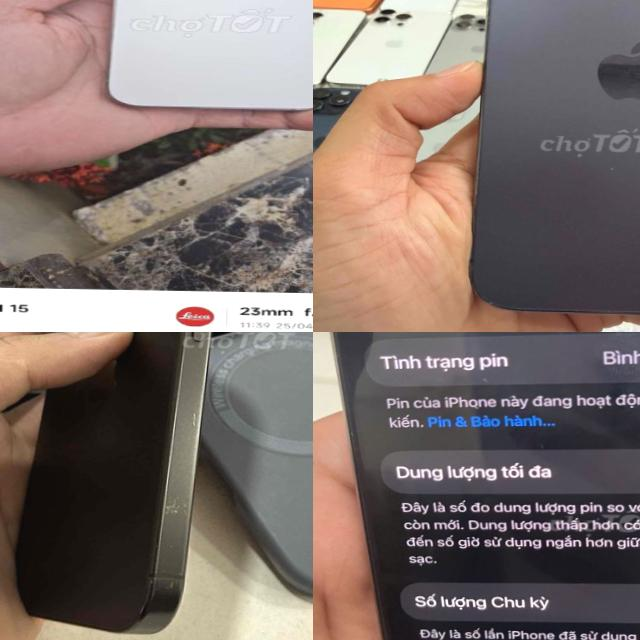gen_14: (467, 0, 640, 332), (95, 0, 313, 118)
gen_15: (313, 332, 640, 640)
gen_16: (17, 332, 211, 632)
